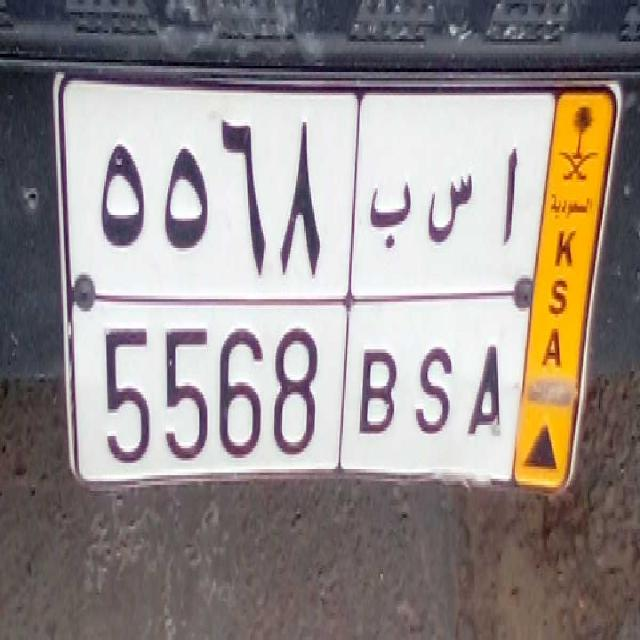license_plate: (84, 296, 512, 478)
